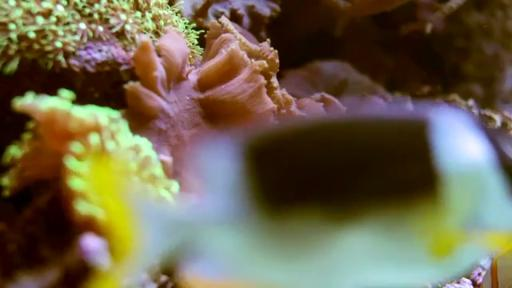Fish: (120, 107, 511, 287)
